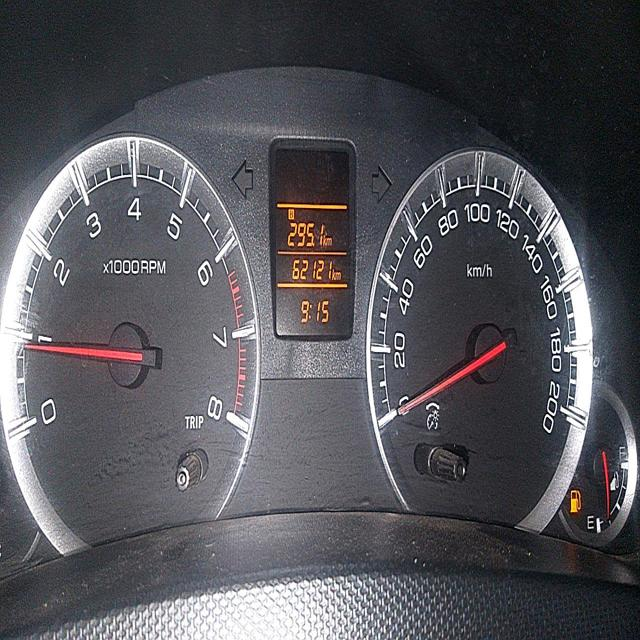odometer: (291, 256, 333, 282)
